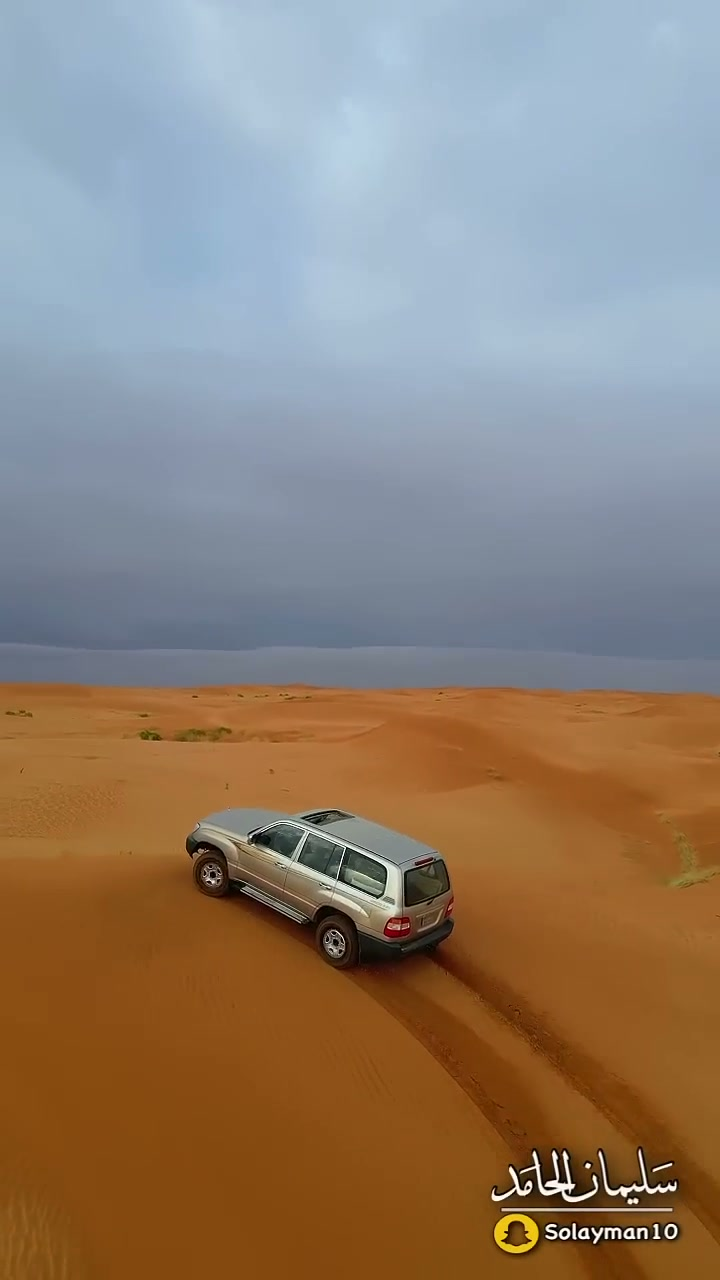vehicle_track: (434, 954, 719, 1242), (350, 969, 552, 1162)
